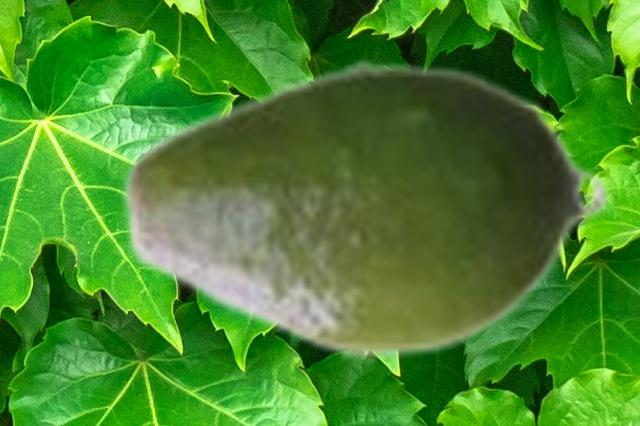avocado: (116, 55, 613, 363)
